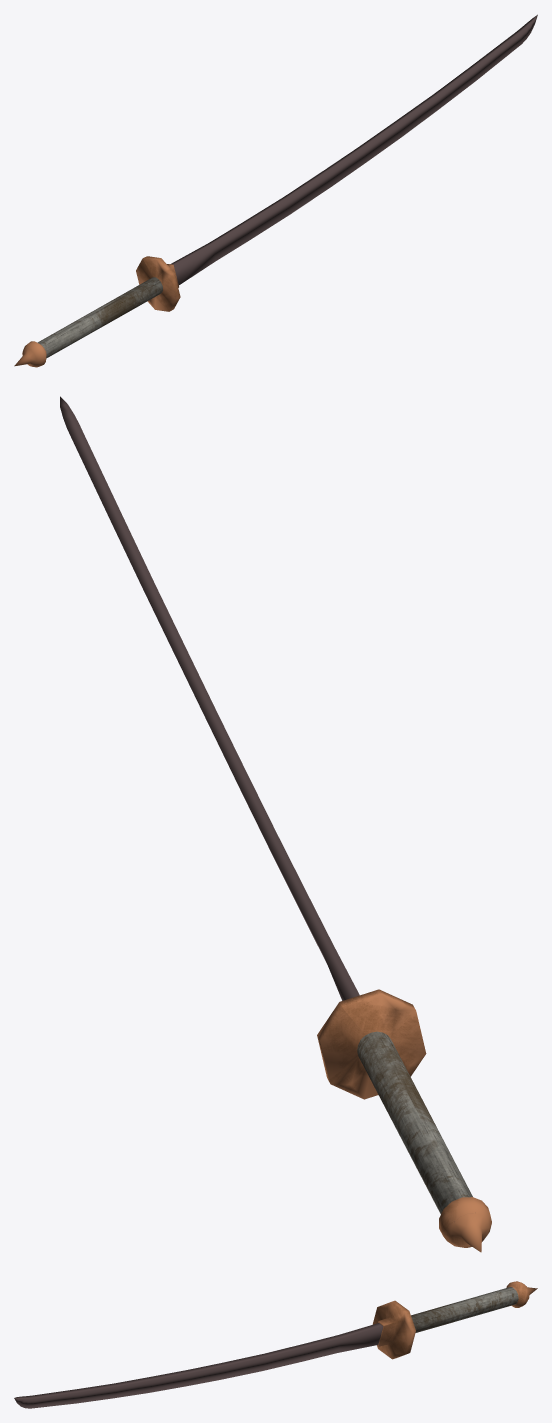
File: Anim_idle_katana_objetos.0038.obj
3 views of the same model, one above another, from view 1: azimuth 90°, elevation 25°; view 2: azimuth 150°, elevation 25°; view 3: azimuth 270°, elevation 25° (orthographic). The views are drawn at different scales.
Parts seen in each view (by area): view 1: Katana1; view 2: Katana1; view 3: Katana1.
Part boxes in pixels (bbox=[...]): Katana1: bbox=[14, 14, 537, 367]; Katana1: bbox=[60, 396, 491, 1252]; Katana1: bbox=[14, 1281, 537, 1408].
Size of the model in its own units: 3.81 by 1 by 3.65.
